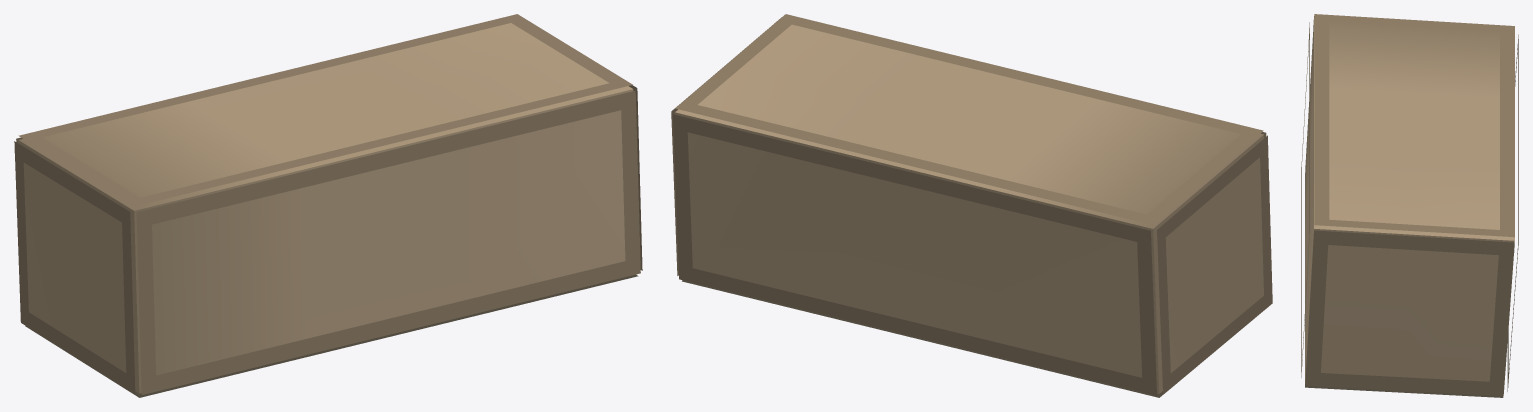
Rendered from key.glb.
3 renders of one model, left to right at view 1: azimuth 30°, elevation 25°; view 2: azimuth 150°, elevation 25°; view 3: azimuth 270°, elevation 25°, orthographic. The views are drawn at different scales.
Visible parts, largest first — view 1: key; view 2: key; view 3: key.
Boxes of the visible parts, x1,y1,x2,y2 form: key: [14, 14, 642, 397]; key: [671, 14, 1272, 397]; key: [1301, 14, 1518, 397].
Size of the model in its own units: 0.0508 by 0.0191 by 0.0218.
